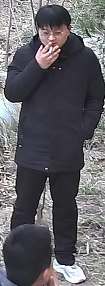smoking: (0, 4, 93, 94)
